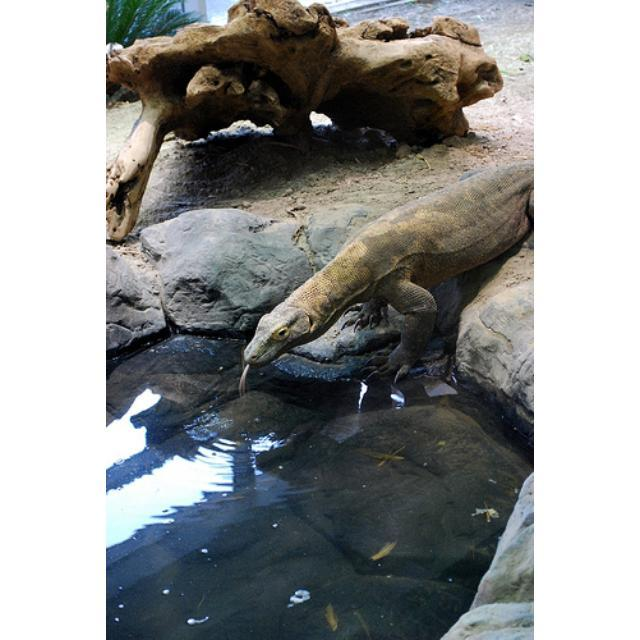KomodoDragon: (240, 154, 531, 378)
